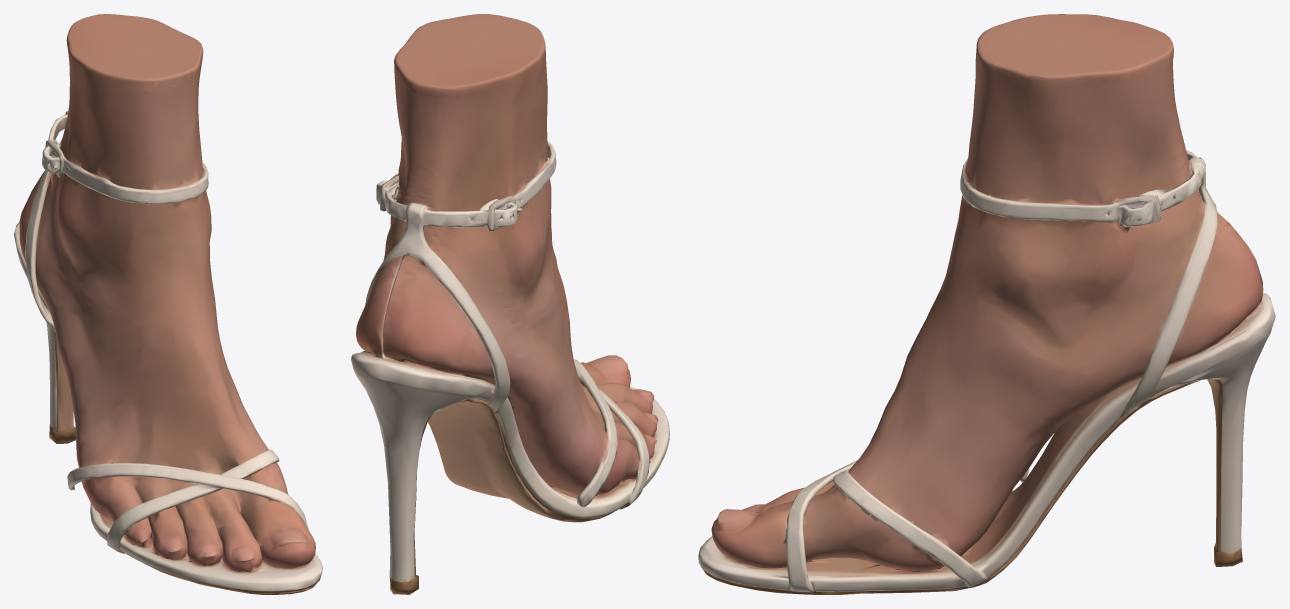
File: sandal_right.glb
3 renders of one model, left to right at view 1: azimuth 30°, elevation 25°; view 2: azimuth 150°, elevation 25°; view 3: azimuth 270°, elevation 25°, orthographic. The views are drawn at different scales.
Visible parts, largest first — view 1: tripo_node_3d543ea0-5d83-4857-9c17-46d5f8c9e3c3; view 2: tripo_node_3d543ea0-5d83-4857-9c17-46d5f8c9e3c3; view 3: tripo_node_3d543ea0-5d83-4857-9c17-46d5f8c9e3c3.
Boxes of the visible parts, x1,y1,x2,y2 form: tripo_node_3d543ea0-5d83-4857-9c17-46d5f8c9e3c3: (14, 14, 322, 594); tripo_node_3d543ea0-5d83-4857-9c17-46d5f8c9e3c3: (351, 14, 669, 594); tripo_node_3d543ea0-5d83-4857-9c17-46d5f8c9e3c3: (698, 14, 1275, 594).
Size of the model in its own units: 0.3705 by 0.9812 by 0.9778.
Materials: 1 (1 with a texture image).
